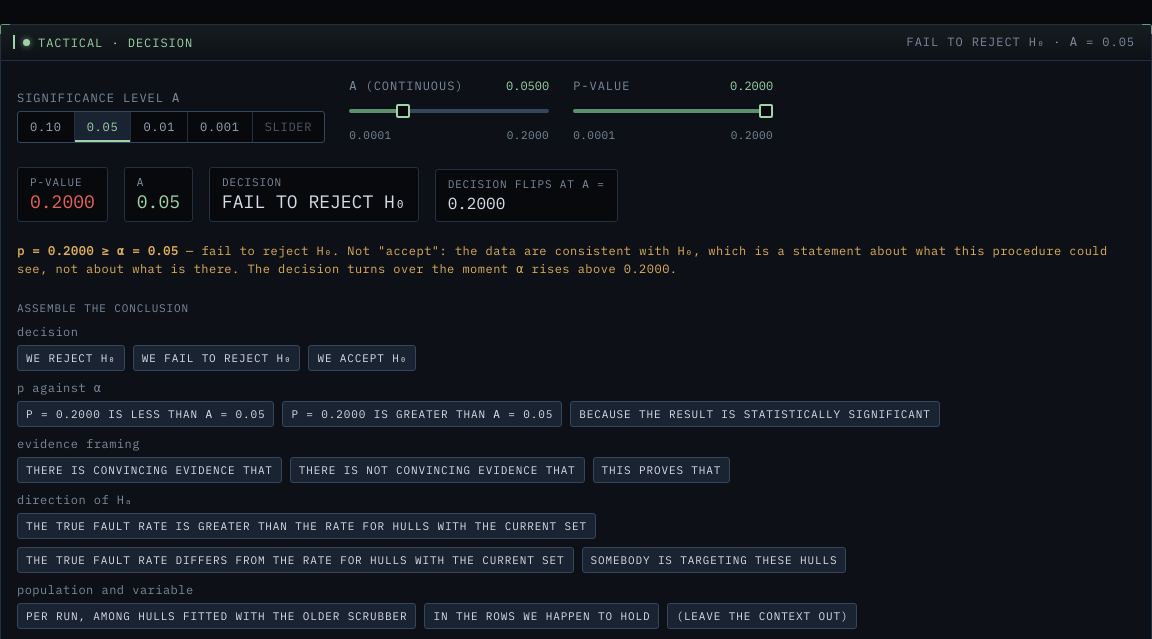
<DecisionConsole> (act-6-05) › accepts overridden counts and grades against the overridden context
Click the button "We fail to reject H₀" at (217, 358), box [133,345,300,371]
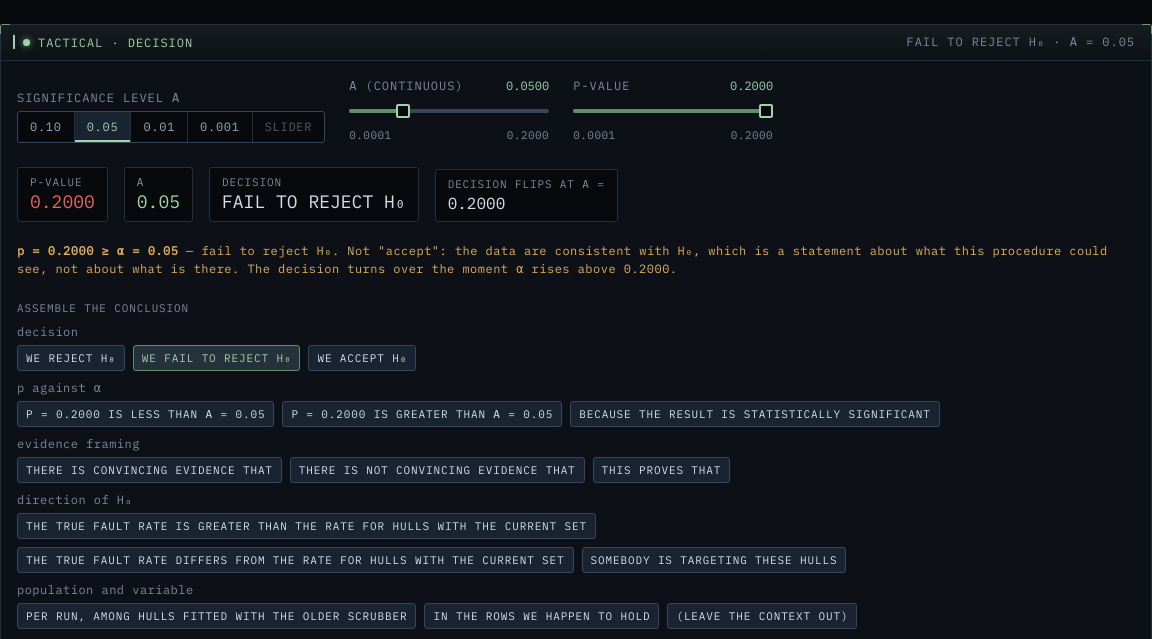
Click the button "p = 0.2000 is greater than α = 0.05" at (422, 414), box [282,401,562,427]
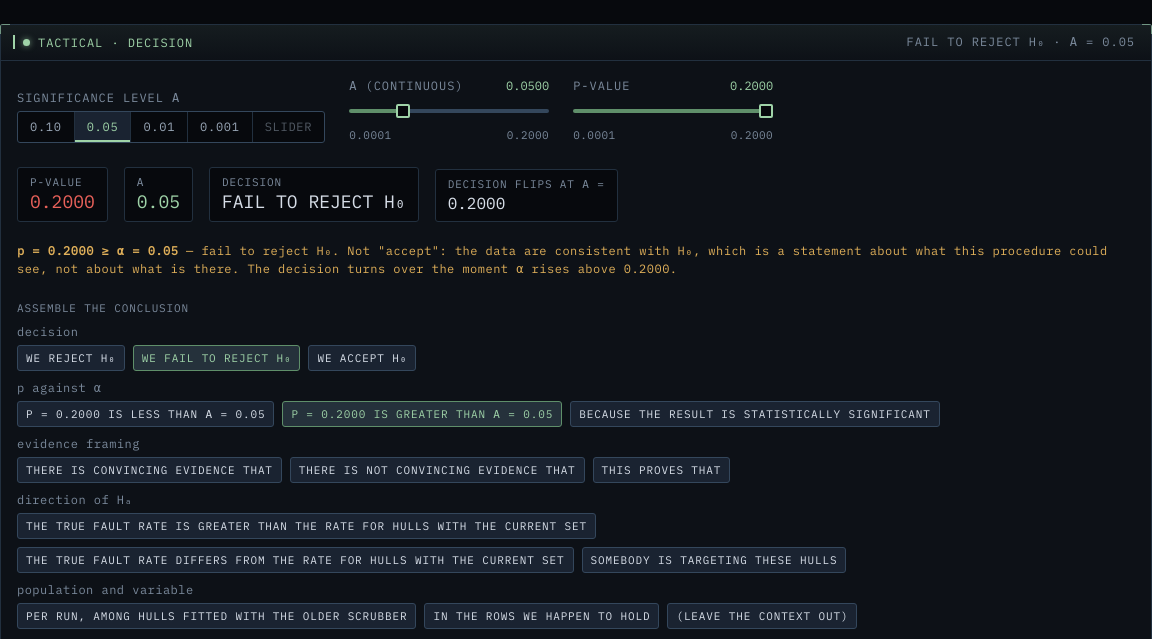
Click the button "There is not convincing evidence that" at (437, 470), box [290,457,585,483]
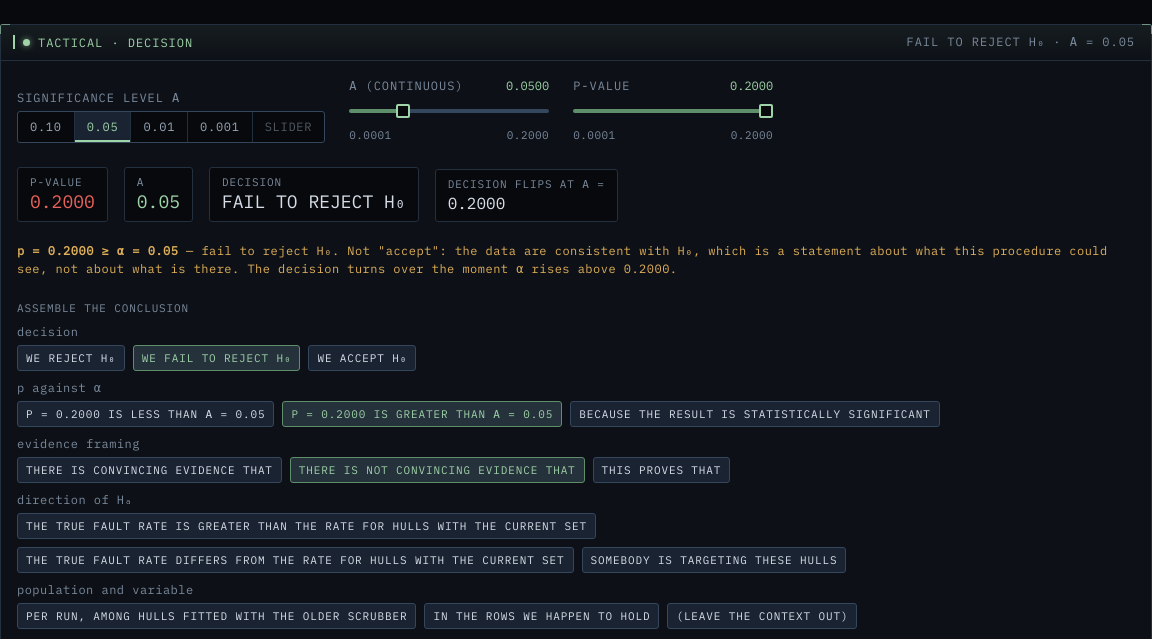
Click the button "the true fault rate is greater than" at (306, 526), box [17,513,596,539]
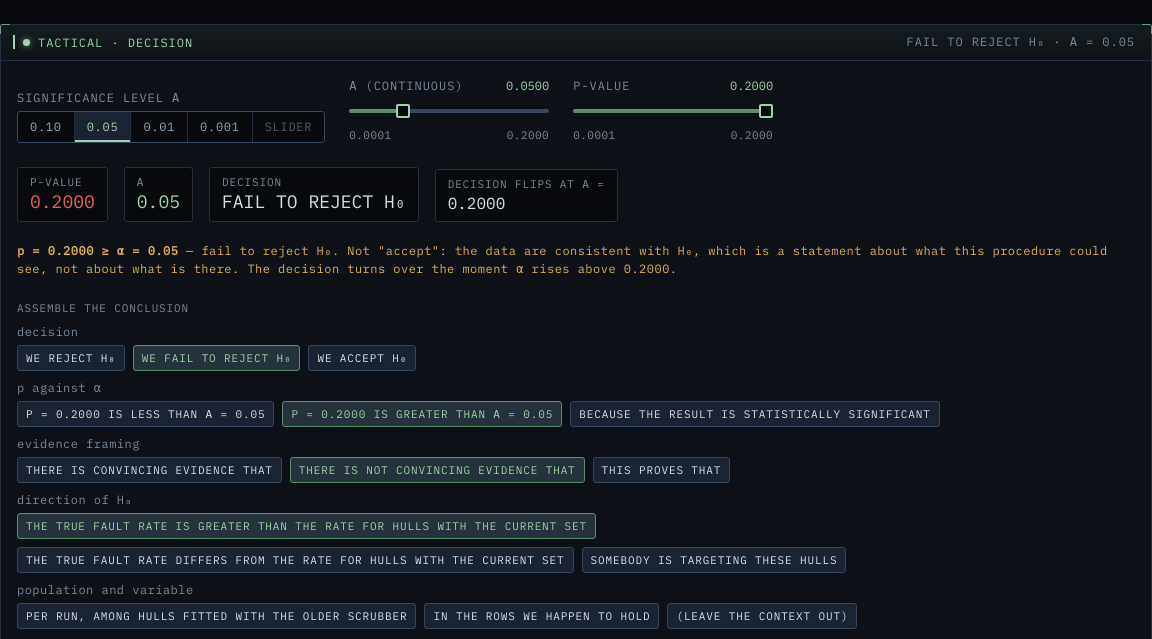
Click the button "per run, among hulls fitted with the older scrubber" at (217, 616), box [17,603,416,629]
(page scrolled)
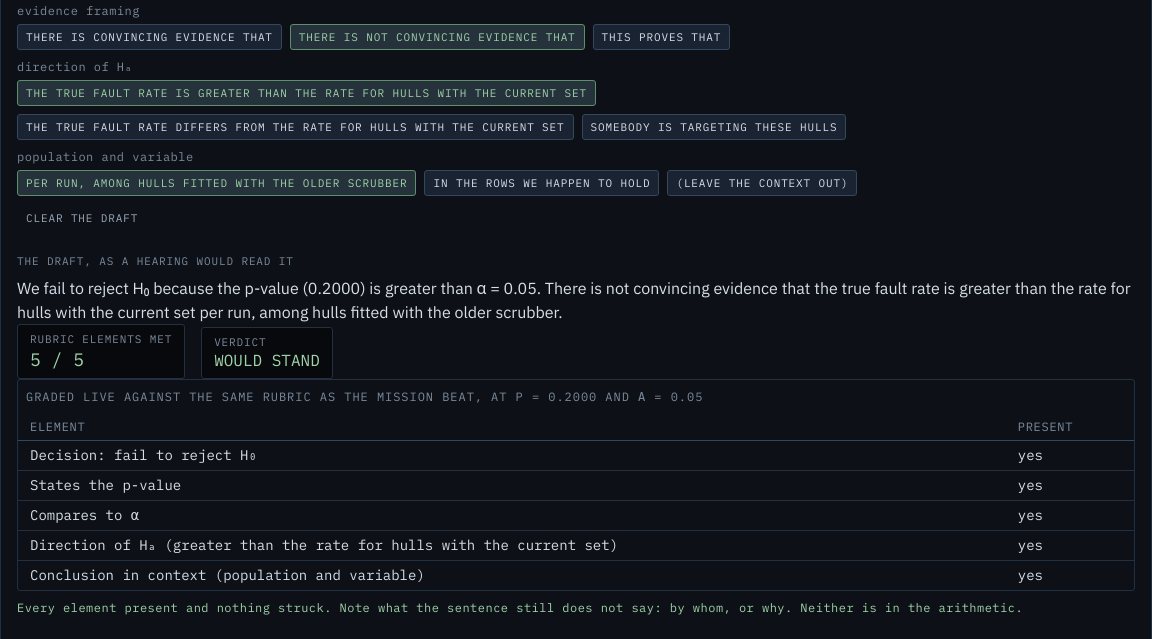
Now the text with class "dr-readout__value" reads "WOULD STAND", box [214,350,320,370]
